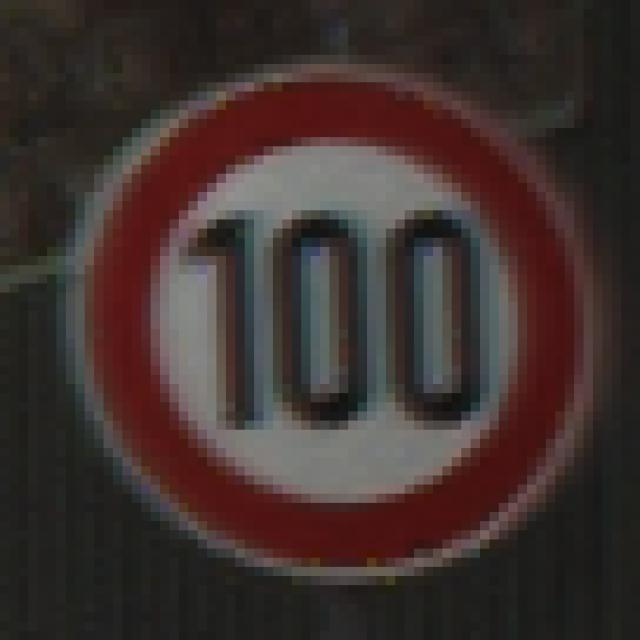speed limit 100: (42, 49, 598, 592)
